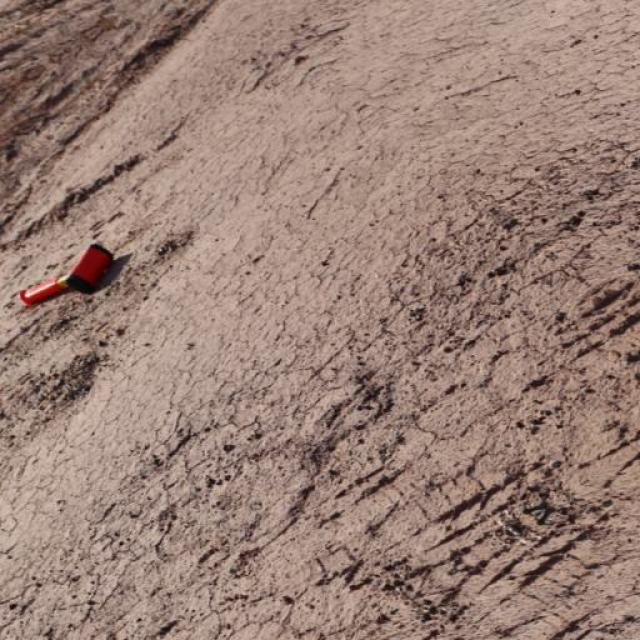mallet: (18, 242, 114, 308)
